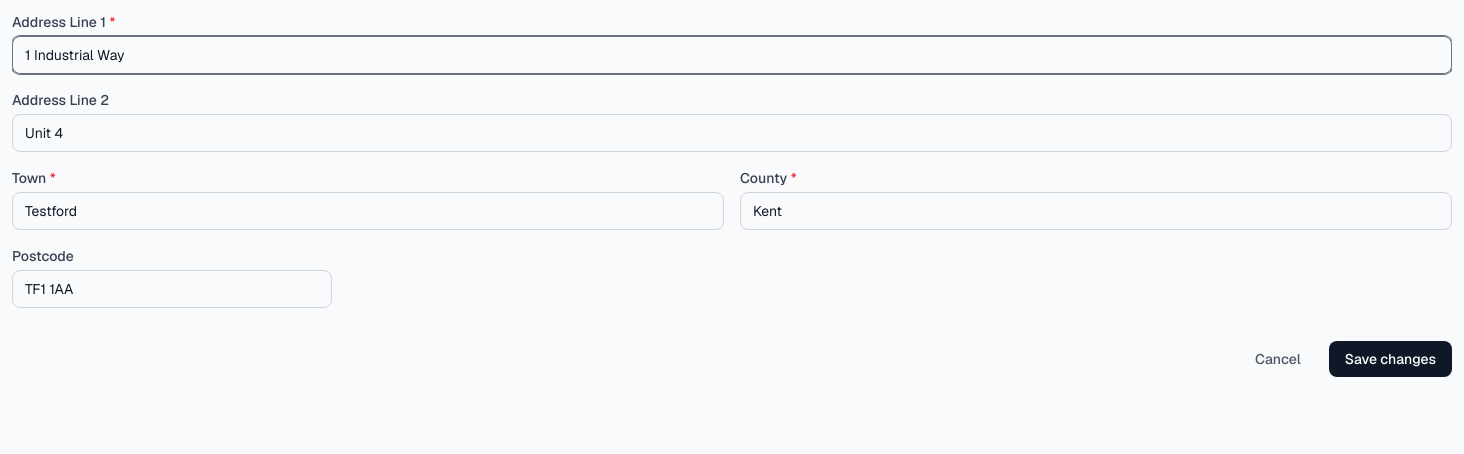
EditSiteForm — unaffected by the shared field-set going controlled › keeps the edited values on screen after a failed save
Step 1. Replace the text in the field labelled "Address Line 1 *" with "2 Industrial Way" → {"x": 732, "y": 55}, box [12,36,1452,74]
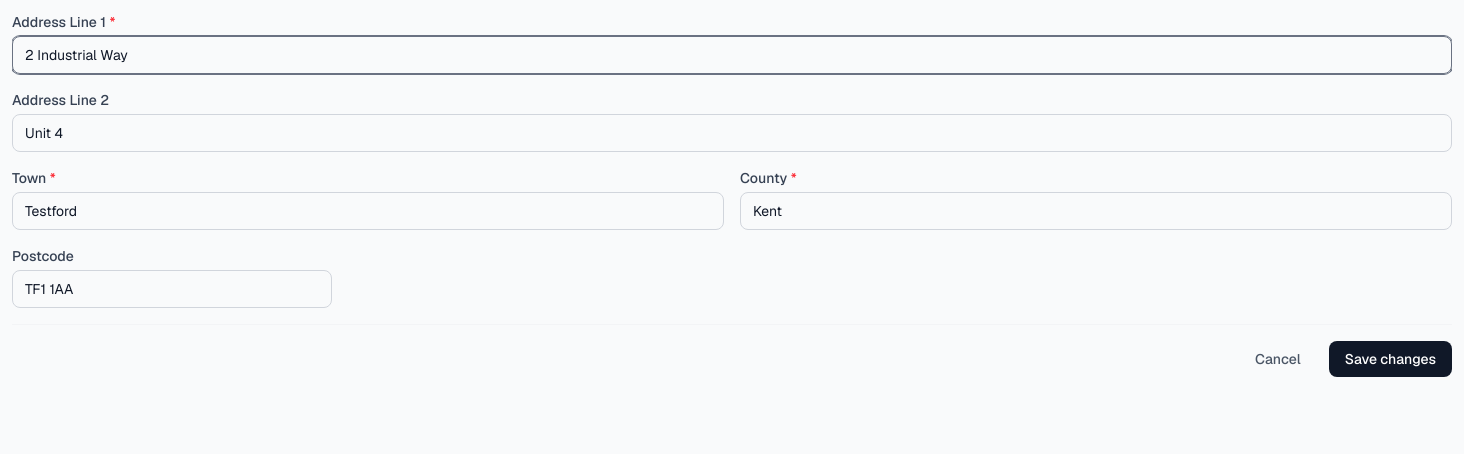
Step 2. Click the button "Save changes" → {"x": 1390, "y": 359}, box [1329,341,1452,377]
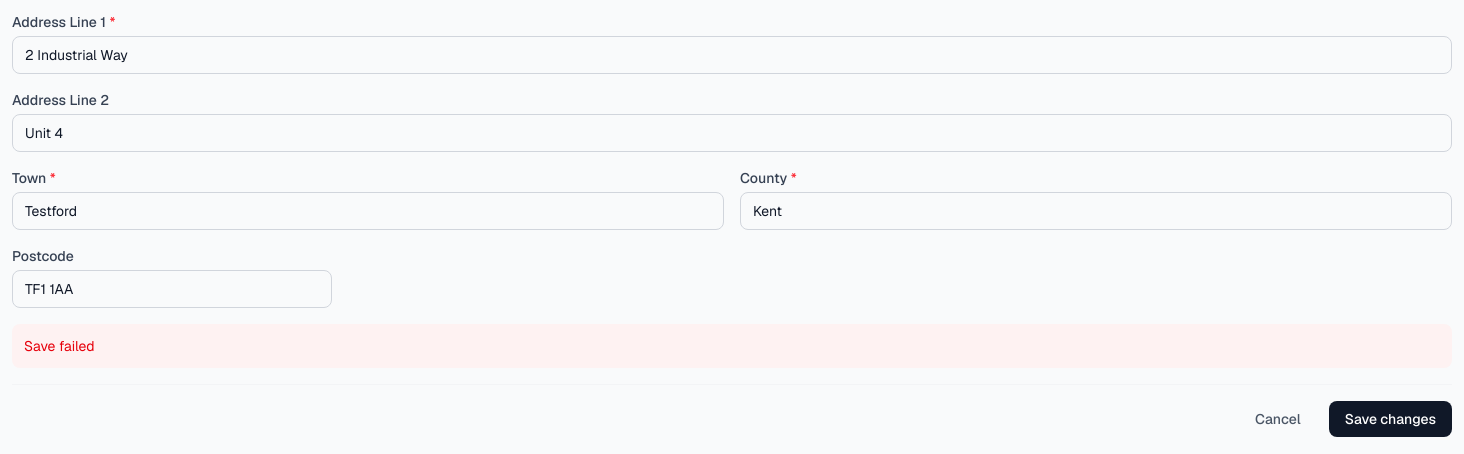
Check: the text "Save failed" is shown, box [12,324,1452,368]
